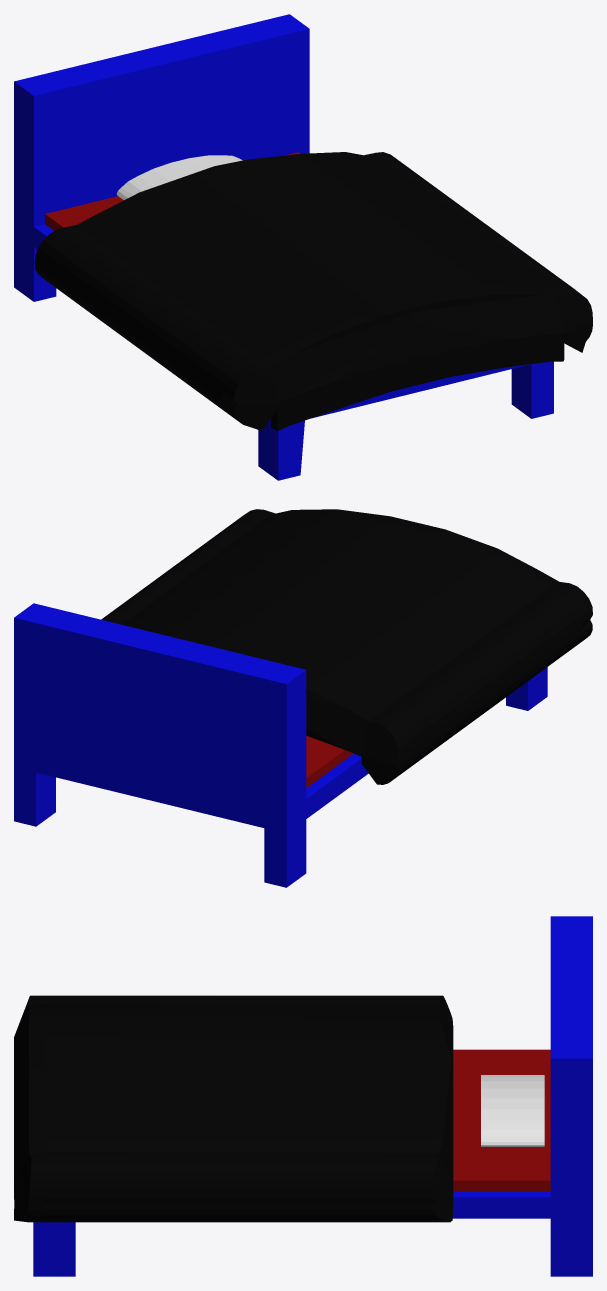
File: bed.fbx
3 views of the same model, one above another, from view 1: azimuth 30°, elevation 25°; view 2: azimuth 150°, elevation 25°; view 3: azimuth 270°, elevation 25° (orthographic). The views are drawn at different scales.
Parts seen in each view (by area): view 1: bed; view 2: bed; view 3: bed.
Boxes of the visible parts, x1,y1,x2,y2 form: bed: [14, 14, 592, 480]; bed: [14, 509, 592, 887]; bed: [14, 916, 592, 1276].
Bounding box in the file's own units: 3870 × 2129 × 5122.
